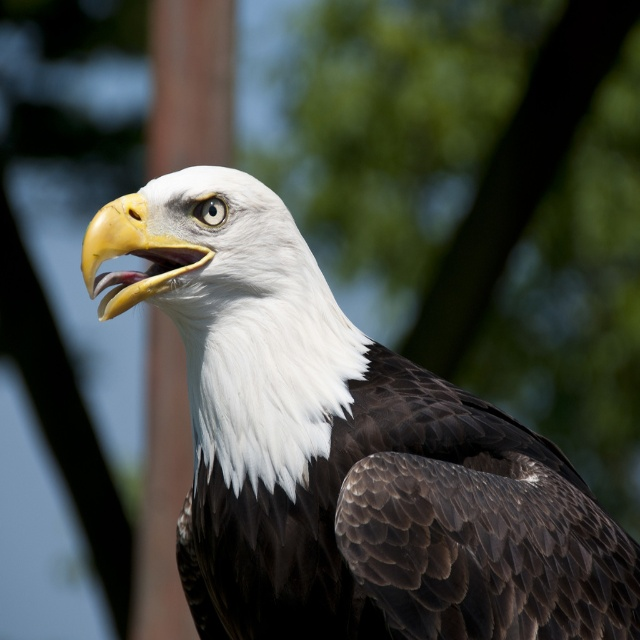Eagle: (72, 154, 635, 640)
